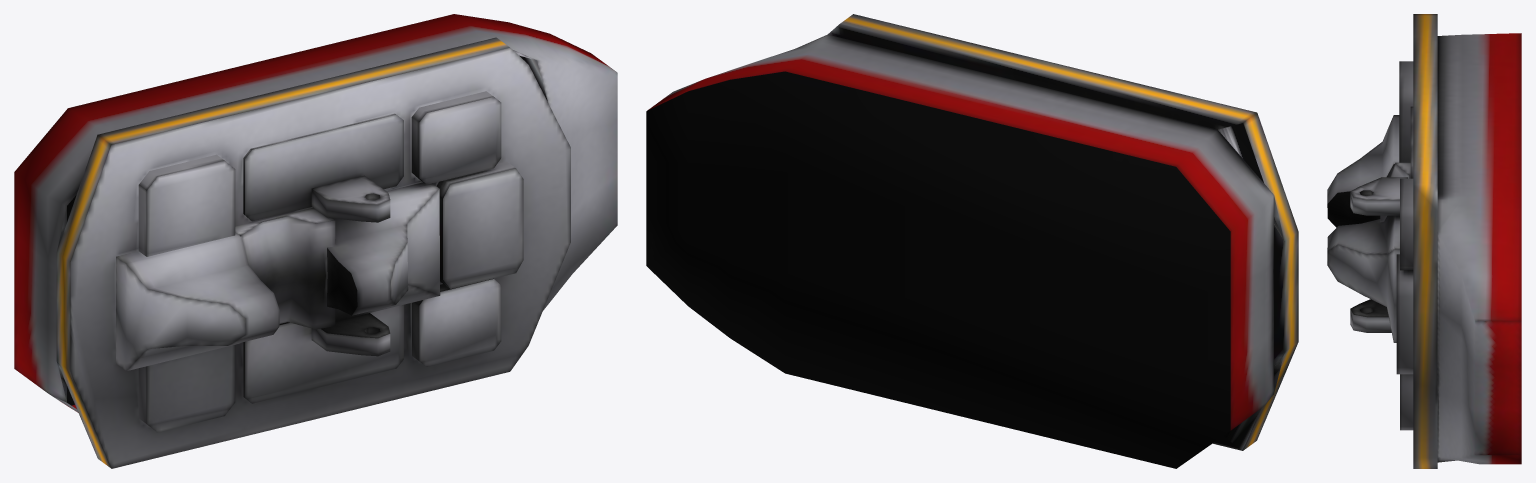
The model's file is l_foot.dae.
3 views of the same model, side by side, from view 1: azimuth 30°, elevation 25°; view 2: azimuth 150°, elevation 25°; view 3: azimuth 270°, elevation 25° (orthographic). The views are drawn at different scales.
Parts seen in each view (by area): view 1: l_foot; view 2: l_foot; view 3: l_foot.
Part boxes in pixels (box(x1,y1,x2,y2)): l_foot: box(14, 14, 617, 468); l_foot: box(646, 14, 1298, 468); l_foot: box(1327, 14, 1521, 468).
Size of the model in its own units: 0.2629 by 0.1398 by 0.0866.
Materials: 1 (1 with a texture image).
